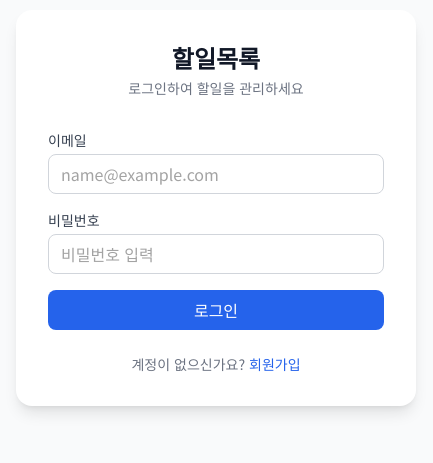
Test: Auth Integration › 잘못된 비밀번호 시 에러 메시지 표시
Type "test@test.com" into the field labelled "이메일".
click(216, 174); type("test@test.com")  # box [48,154,384,194]
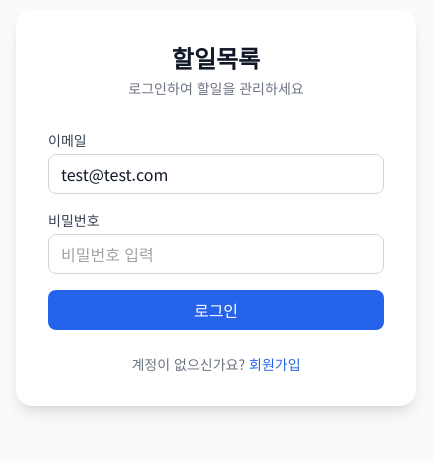
Type "wrongpassword" into the password field labelled "비밀번호".
click(216, 254); type("wrongpassword")  # box [48,234,384,274]
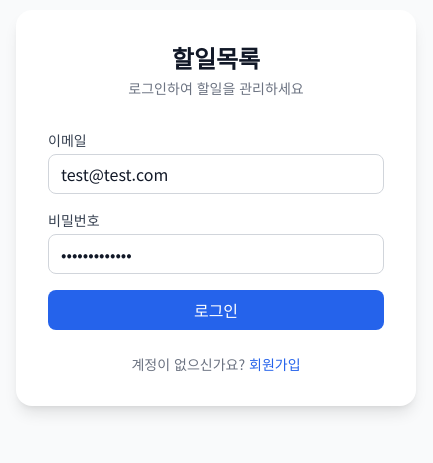
Click the button "로그인".
click(216, 310)  # box [48,290,384,330]
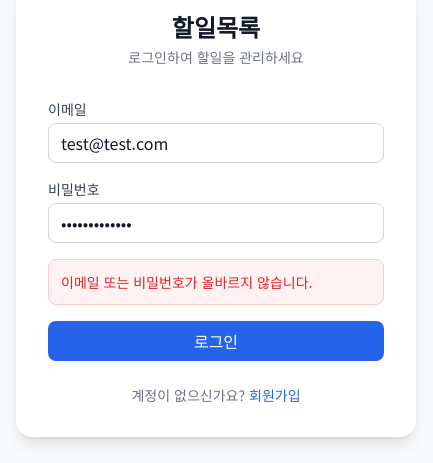
Check: the text "이메일 또는 비밀번호가 올바르지 않습니다." is shown, box [61,272,312,292]
